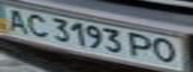1: (66, 19, 87, 47)
3: (103, 26, 127, 55), (48, 16, 72, 44)
9: (81, 22, 106, 51)
A: (0, 7, 33, 34)
C: (24, 11, 51, 38)
O: (148, 36, 184, 65)
P: (127, 31, 160, 60)
